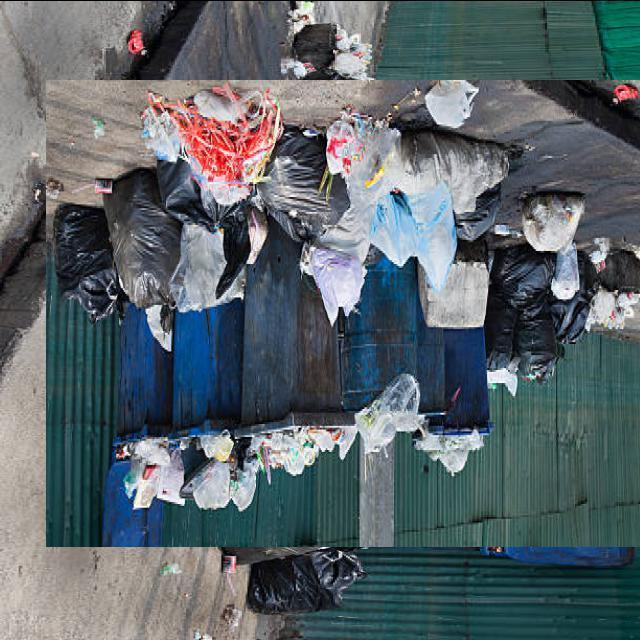Trashbag: (477, 242, 570, 382), (98, 166, 174, 332), (255, 131, 335, 249), (62, 212, 104, 332), (456, 197, 493, 241)
